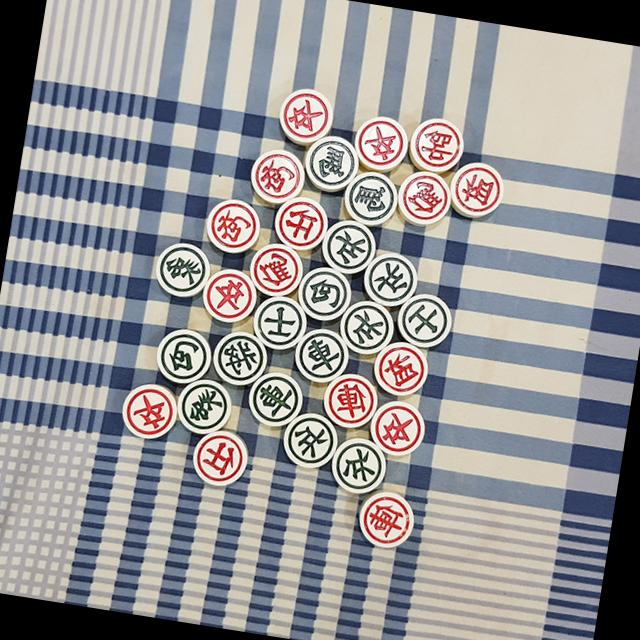black-advisor: (397, 294, 452, 348), (255, 295, 304, 348)
black-cannon: (156, 326, 213, 386), (296, 266, 351, 324)
black-chariot: (248, 372, 301, 426), (294, 332, 344, 383)
black-elephant: (153, 238, 211, 297), (176, 383, 232, 432)
black-general: (214, 331, 266, 384)
black-horse: (305, 134, 357, 190), (345, 170, 398, 224)
black-soldier: (363, 250, 421, 306), (340, 300, 393, 355), (330, 440, 388, 490), (322, 222, 376, 274), (282, 415, 334, 466)
red-advisor: (278, 197, 328, 248), (196, 432, 246, 482)
red-cannon: (207, 198, 260, 255), (250, 148, 302, 204)
red-chariot: (358, 492, 416, 548), (326, 376, 374, 426)
red-elephant: (452, 162, 506, 216), (376, 344, 428, 396)
red-general: (412, 115, 464, 172)
red-horse: (400, 171, 450, 225), (254, 245, 302, 295)
red-soldier: (118, 381, 178, 442), (280, 85, 332, 141), (372, 402, 427, 454), (356, 116, 408, 170), (205, 268, 256, 323)
